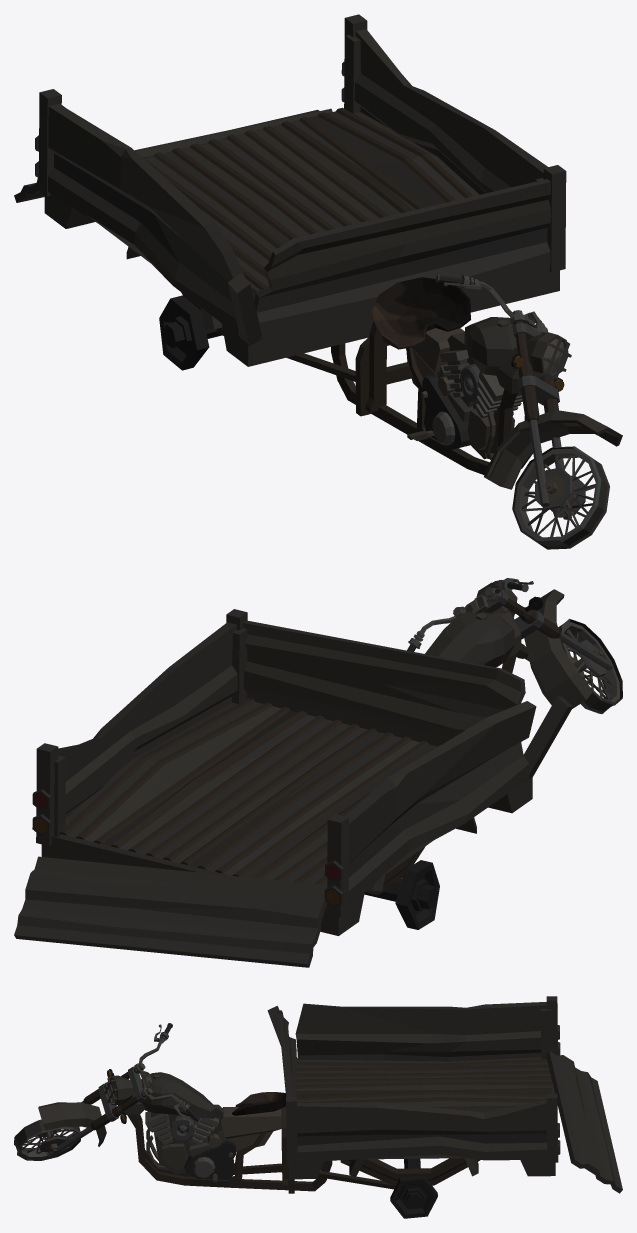
The model's file is SM_Veh_Motorbike_Destroyed_01.fbx.
3 views of the same model, one above another, from view 1: azimuth 30°, elevation 25°; view 2: azimuth 150°, elevation 25°; view 3: azimuth 270°, elevation 25° (orthographic). The views are drawn at different scales.
Parts seen in each view (by area): view 1: SM_Veh_Motorbike_Destroyed_01; view 2: SM_Veh_Motorbike_Destroyed_01; view 3: SM_Veh_Motorbike_Destroyed_01.
Boxes of the visible parts, x1=… form: SM_Veh_Motorbike_Destroyed_01: x1=14, y1=14, x2=622, y2=549; SM_Veh_Motorbike_Destroyed_01: x1=14, y1=578, x2=622, y2=967; SM_Veh_Motorbike_Destroyed_01: x1=14, y1=996, x2=622, y2=1218.
Bounding box in the file's own units: 213 × 125 × 495.
